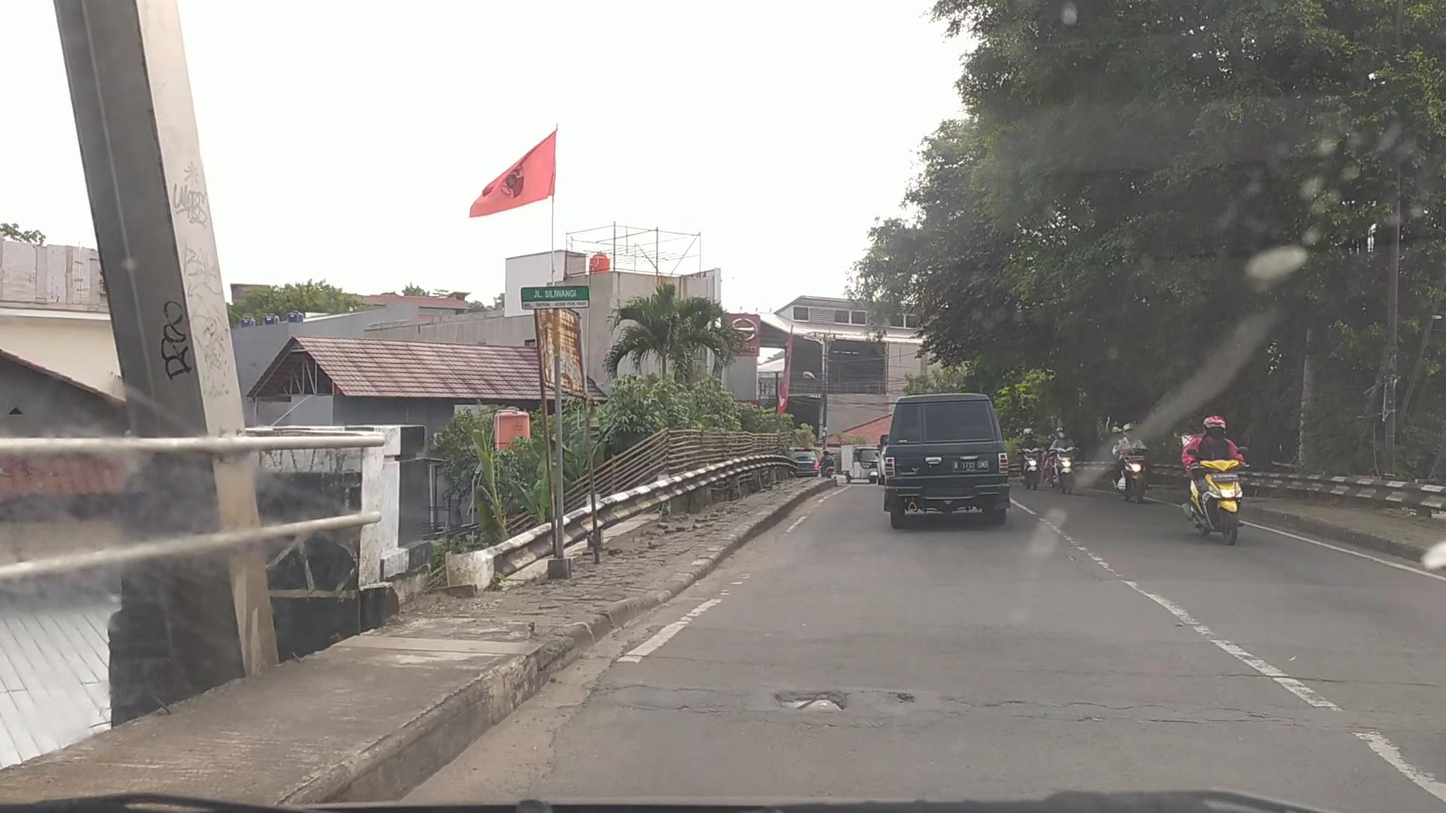pothole: (776, 692, 845, 713)
